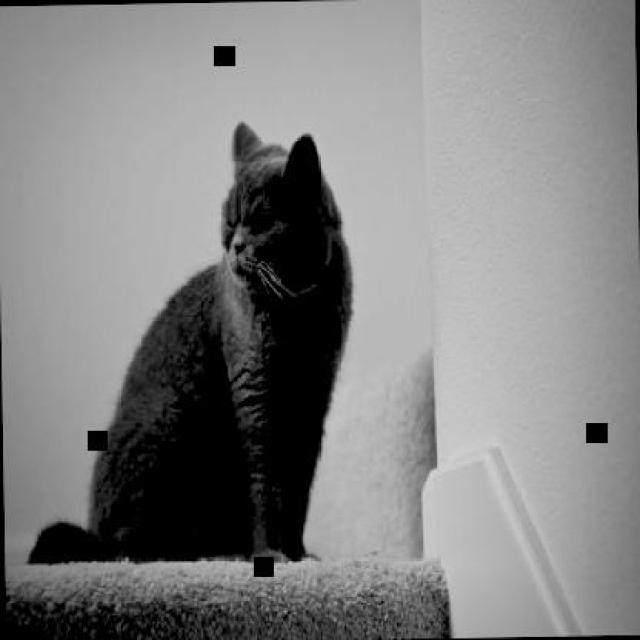cat: (18, 117, 358, 566)
